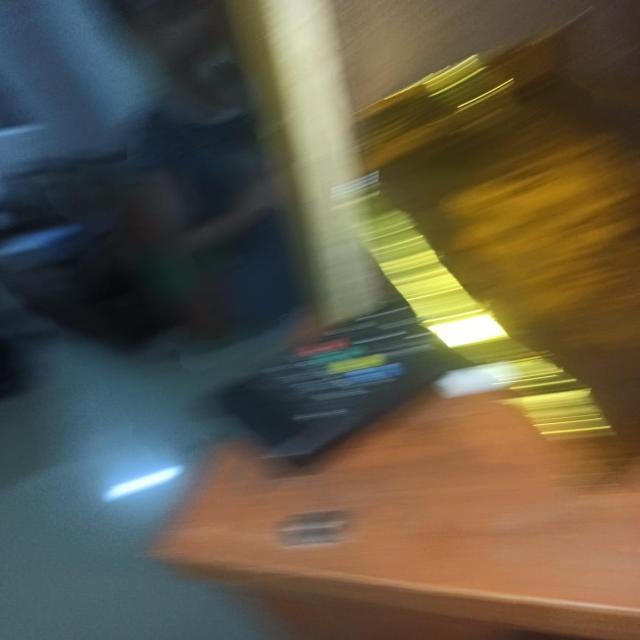Harischandra Coffee: (334, 81, 640, 353)
